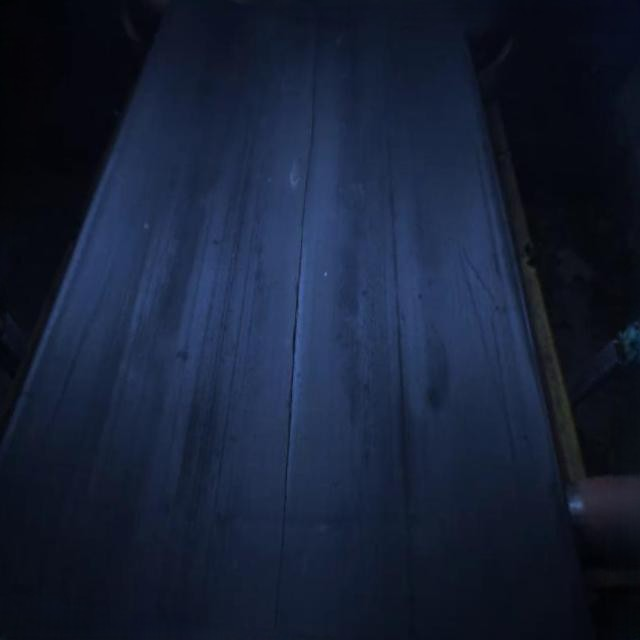Tear: (268, 44, 326, 573)
